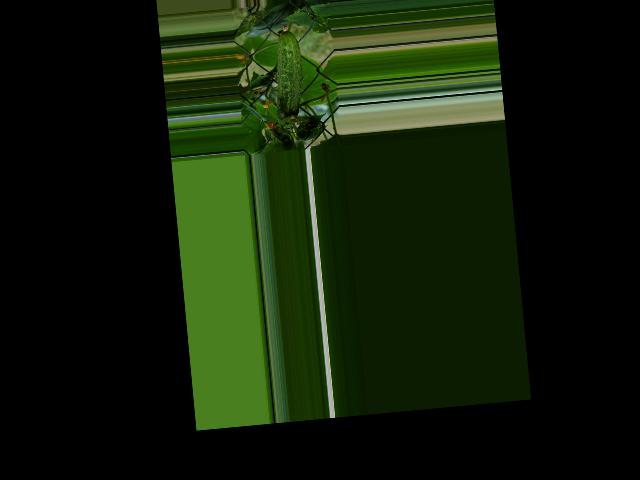cucumber: (270, 24, 307, 124)
